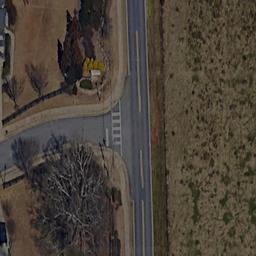Crosswalk: (112, 101, 123, 158)
Double Solid Yellow Line: (136, 32, 141, 114), (142, 198, 145, 256), (140, 149, 144, 189)
Stop Line: (105, 127, 109, 146)
